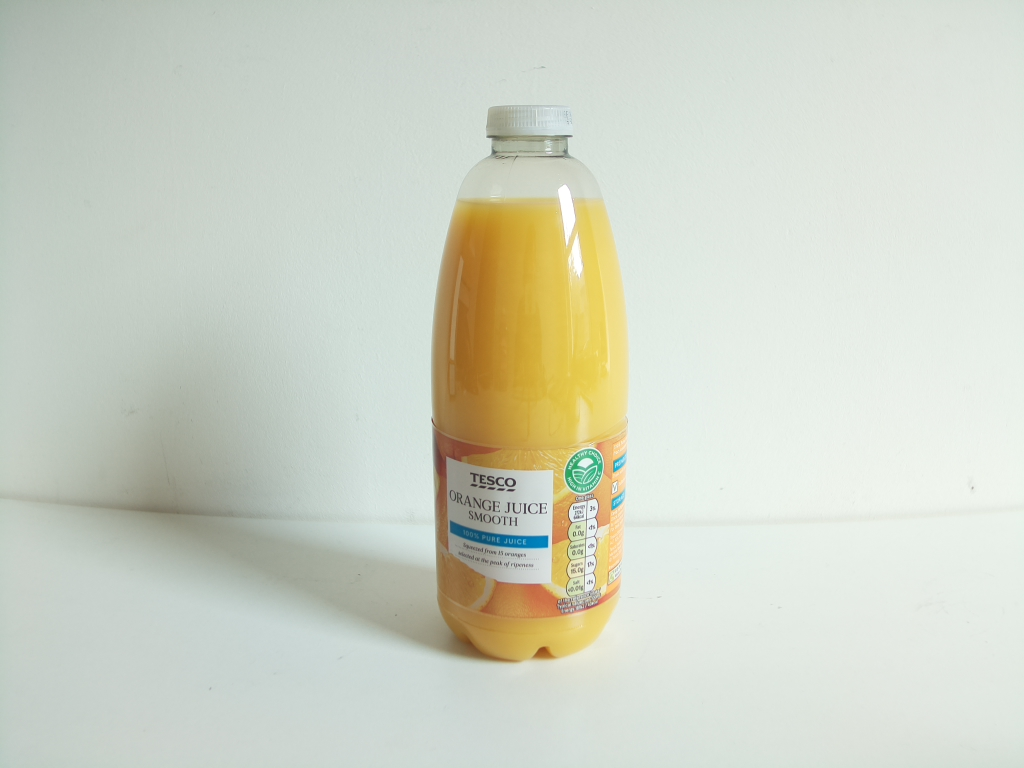juice: (426, 94, 631, 668)
